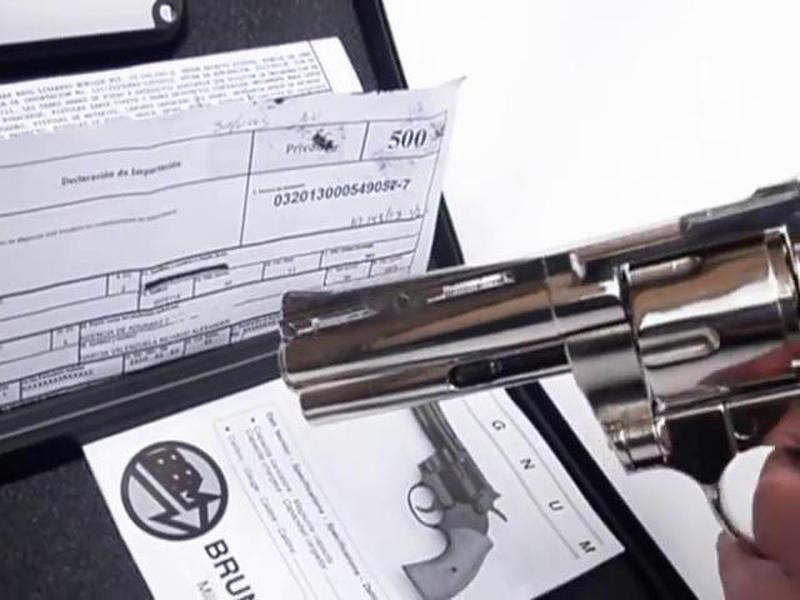Revolver: (264, 183, 800, 529)
